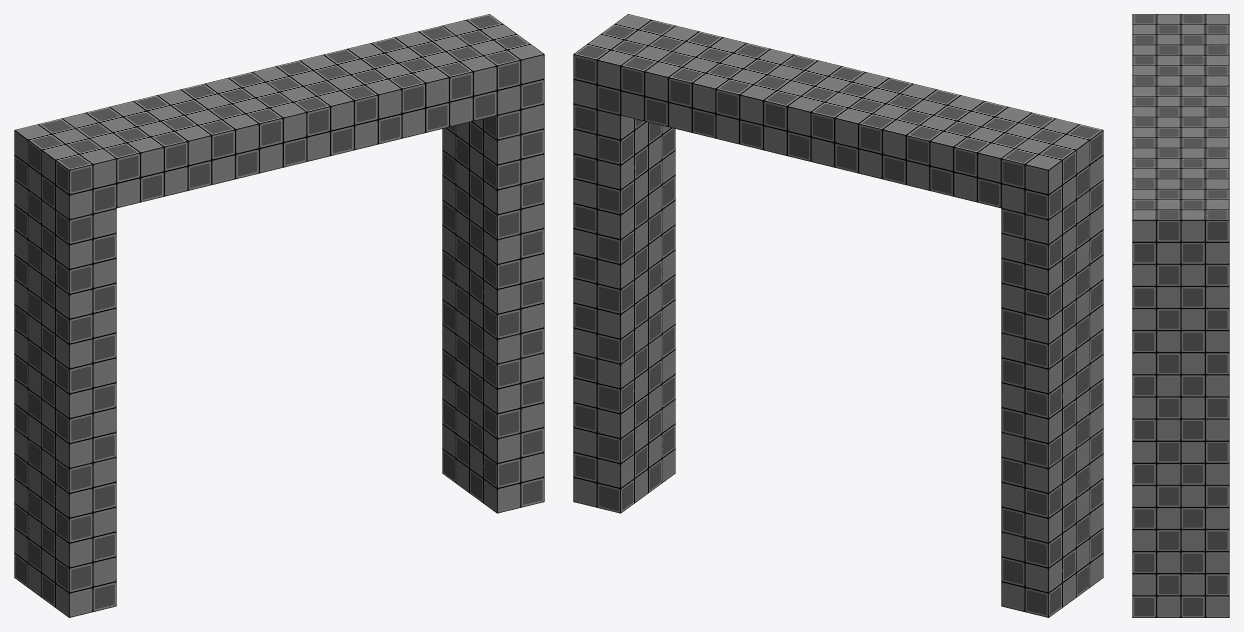
The model's file is doorframe.fbx.
The picture shows the model from 3 angles, left to right: view 1: azimuth 30°, elevation 25°; view 2: azimuth 150°, elevation 25°; view 3: azimuth 270°, elevation 25°; orthographic projection. The views are drawn at different scales.
Parts seen in each view (by area): view 1: Door Frame; view 2: Door Frame; view 3: Door Frame.
Part boxes in pixels (box(x1,y1,x2,y2)): Door Frame: box(14, 14, 544, 617); Door Frame: box(573, 14, 1103, 617); Door Frame: box(1132, 14, 1229, 617).
Bounding box in the file's own units: 133 × 120 × 26.6.
